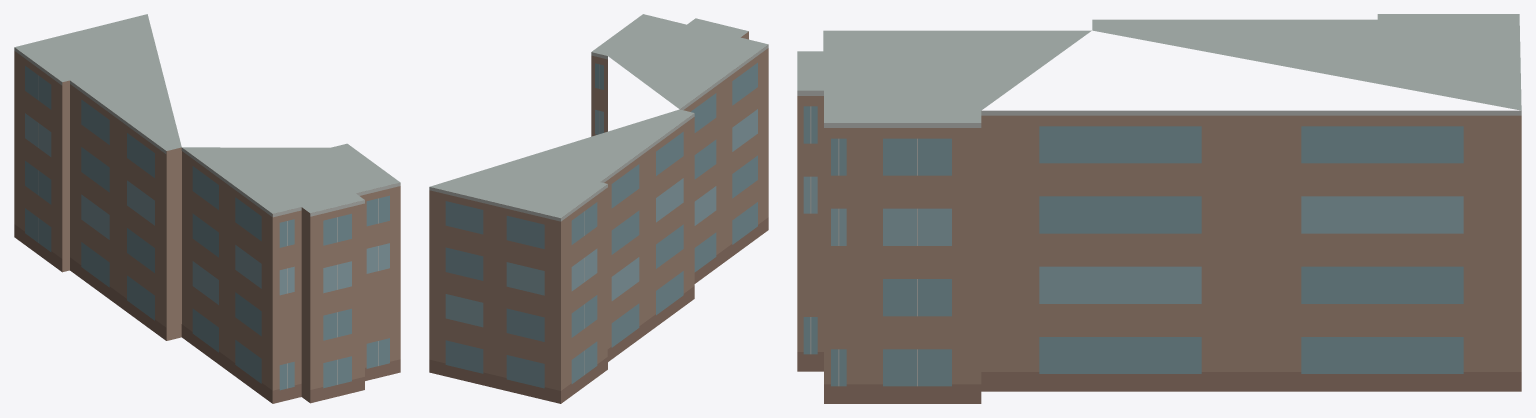
Rendered from survey-upis-33014244.glb.
3 views of the same model, side by side, from view 1: azimuth 30°, elevation 25°; view 2: azimuth 150°, elevation 25°; view 3: azimuth 270°, elevation 25° (orthographic). The views are drawn at different scales.
Parts seen in each view (by area): view 1: survey-upis-33014244.tmp; view 2: survey-upis-33014244.tmp; view 3: survey-upis-33014244.tmp.
Part boxes in pixels (x1=…): survey-upis-33014244.tmp: x1=14, y1=14, x2=400, y2=403; survey-upis-33014244.tmp: x1=429, y1=14, x2=768, y2=403; survey-upis-33014244.tmp: x1=797, y1=14, x2=1521, y2=403.
Size of the model in its own units: 11.08 by 13.3 by 31.09.
